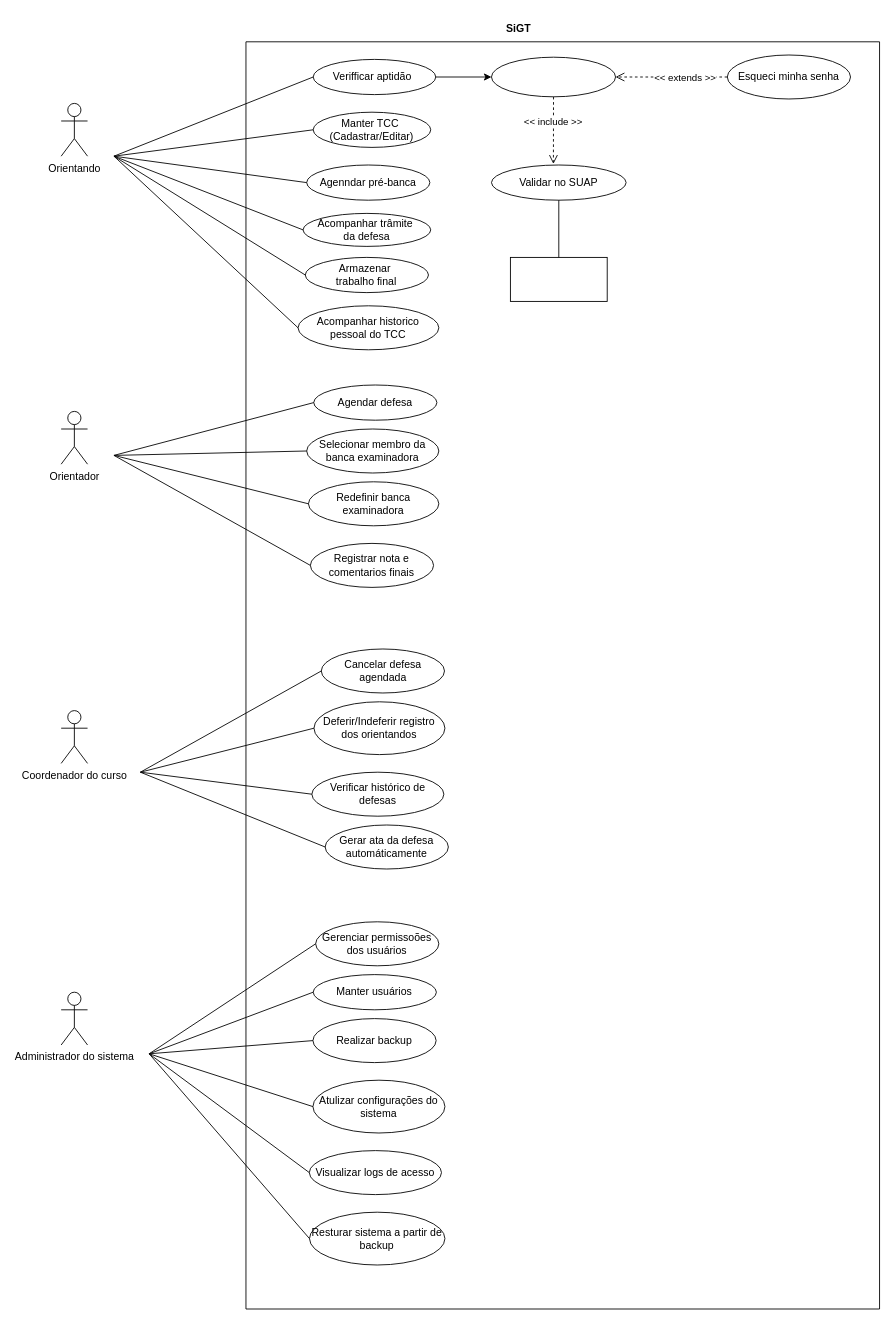
Image size: 895x1324. Some labels were removed from this diagram. Here are the shapes that lost their labels. From the top down, the centre of each, then its label:
At point (553, 76): "Login".
At point (558, 279): "SUAP".
